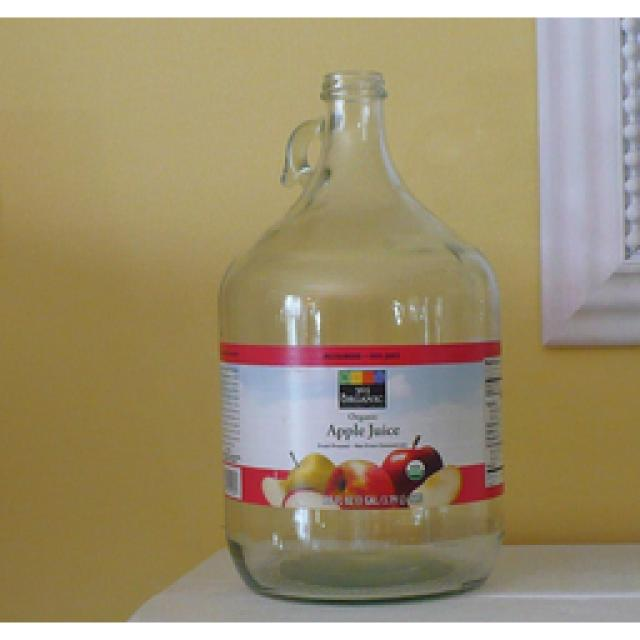glass_beverage_bottles: (228, 70, 502, 593)
